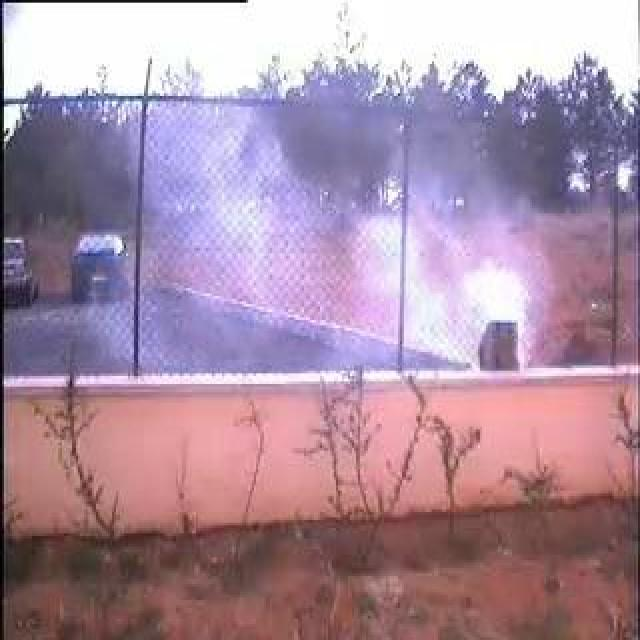Smoke: (135, 101, 533, 379)
